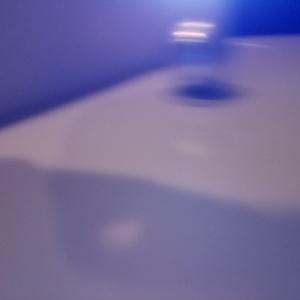alive_ball: (159, 19, 227, 88)
